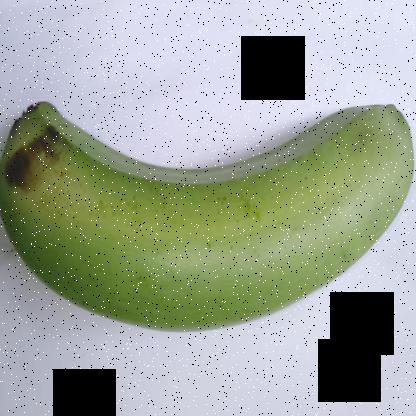freshunripe: (1, 64, 415, 340)
